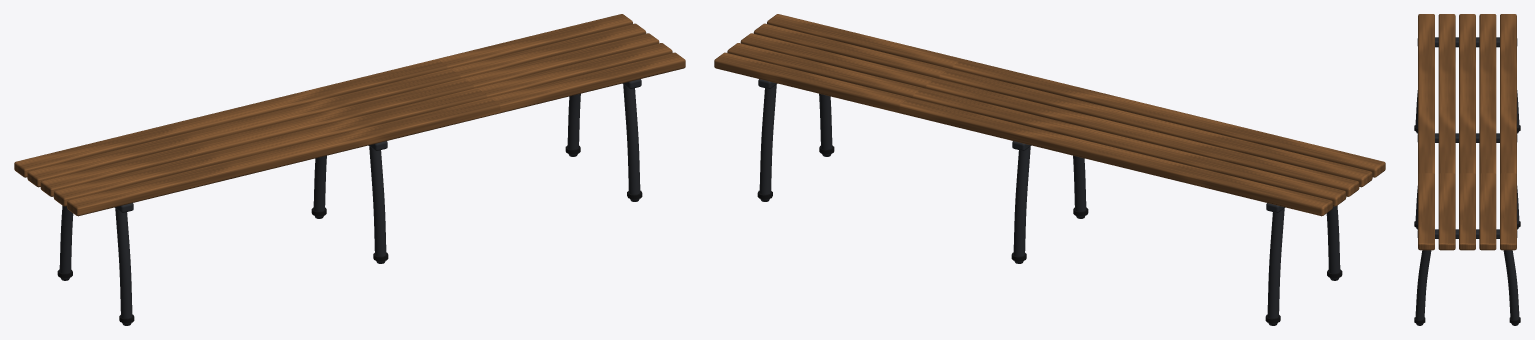
File: banco.glb
3 views of the same model, side by side, from view 1: azimuth 30°, elevation 25°; view 2: azimuth 150°, elevation 25°; view 3: azimuth 270°, elevation 25° (orthographic). The views are drawn at different scales.
Visible parts, largest first — view 1: banco; view 2: banco; view 3: banco.
Part boxes in pixels (x1=…): banco: x1=14, y1=14, x2=685, y2=325; banco: x1=714, y1=14, x2=1385, y2=325; banco: x1=1414, y1=14, x2=1520, y2=325.
Size of the model in its own units: 2.4 by 0.4925 by 0.4695.
Materials: 3 (1 with a texture image).
